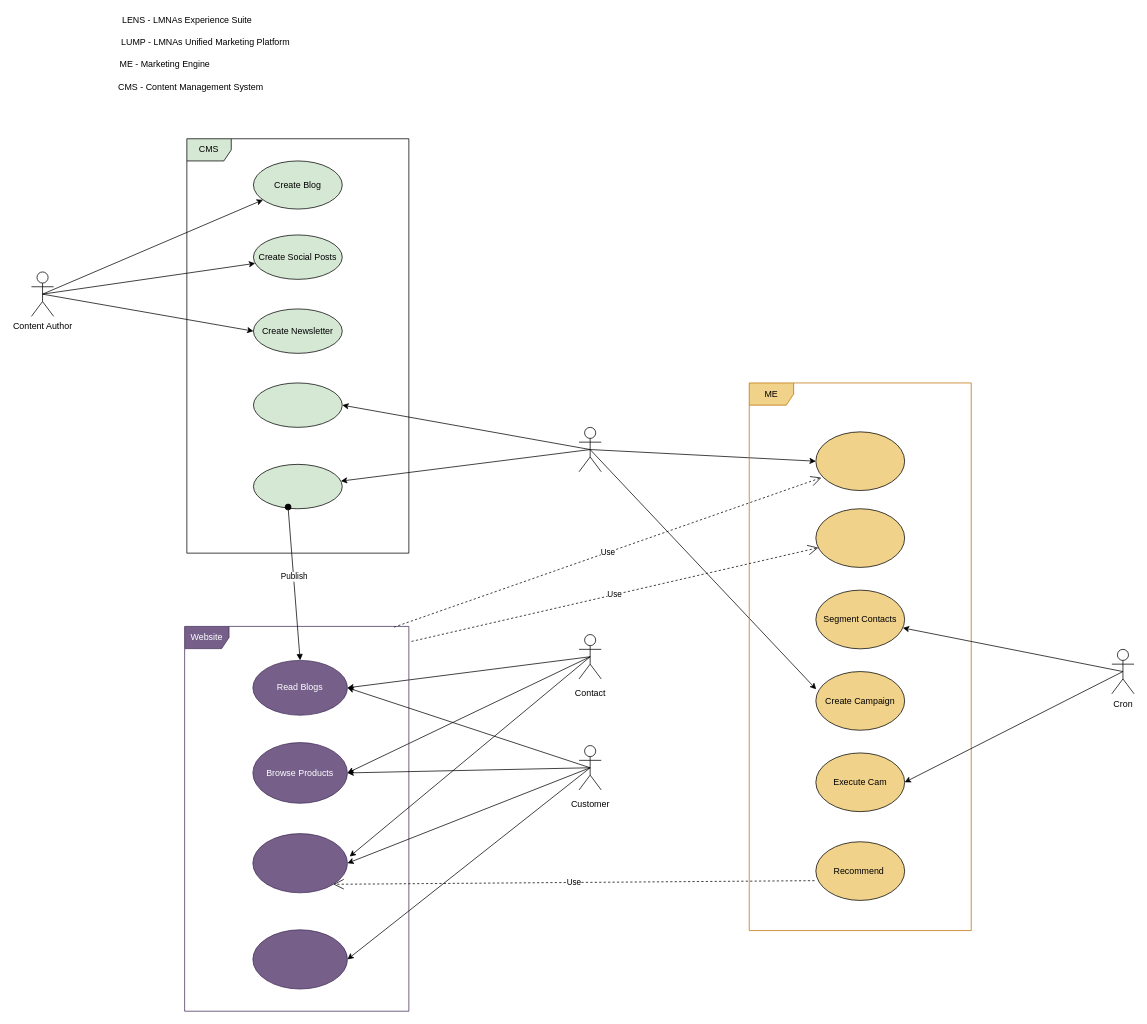
The diagram is 1147 pixels wide and 1024 high, and some of its shapes have lost their labels. The centre of each missing label's shape, as x and y in pixels:
Buy Products: the point at 299,959
Create Contacts: the point at 860,461
Get Recomendation: the point at 299,863
Marketing Manager: the point at 589,449
Publish Blog: the point at 297,486
Review Content: the point at 297,404
Track Visits: the point at 860,537
